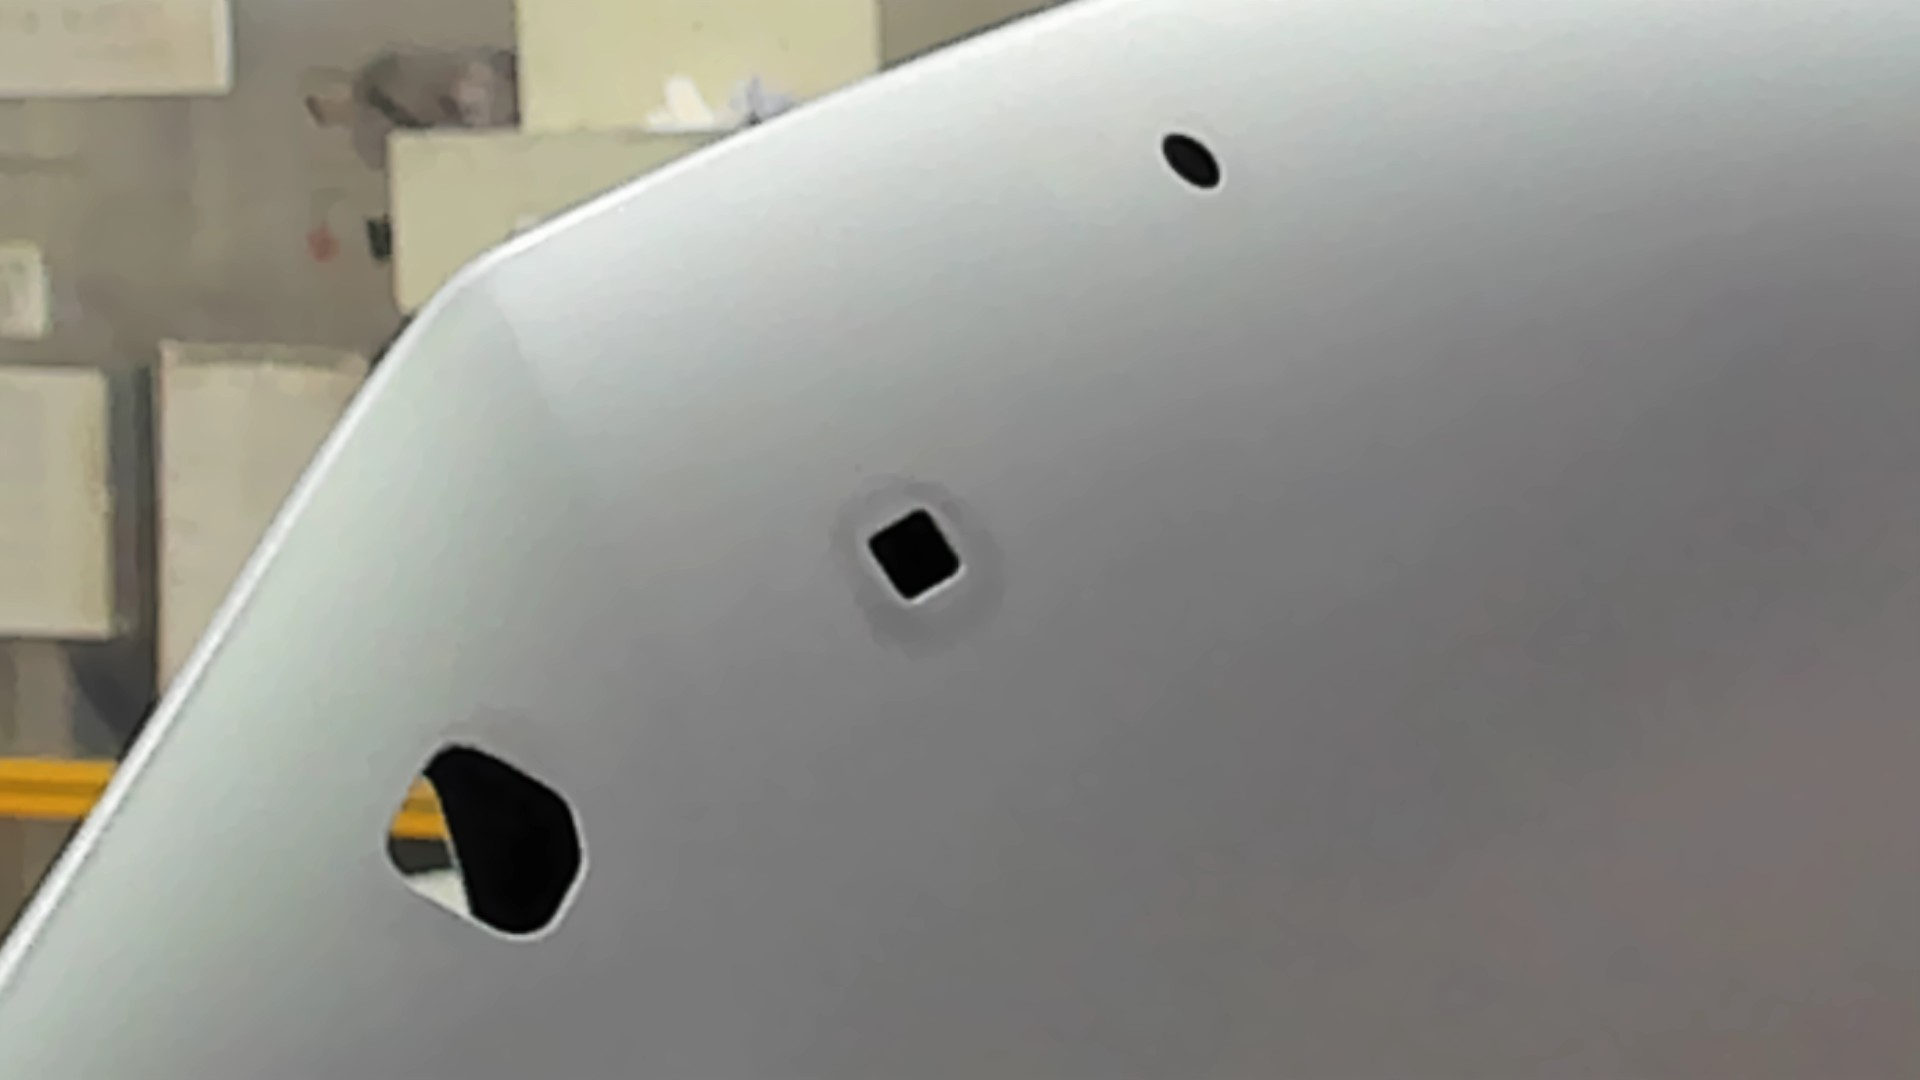chico: (1160, 131, 1224, 189)
grande: (382, 741, 593, 945)
mediano: (864, 505, 968, 607)
